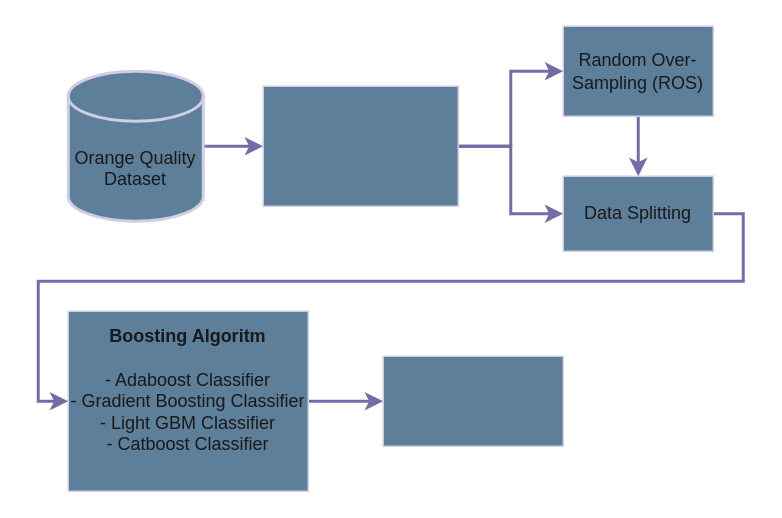
Some shapes in this 782 by 518 pixel diagram are drawn without their labels. Here are the shapes that lost their labels. From the top down, the centre of each, then its label:
At point 360,145: "Data Pre-Processing -Data Cleaning -Encoding".
At point 472,400: "Evaluation".
